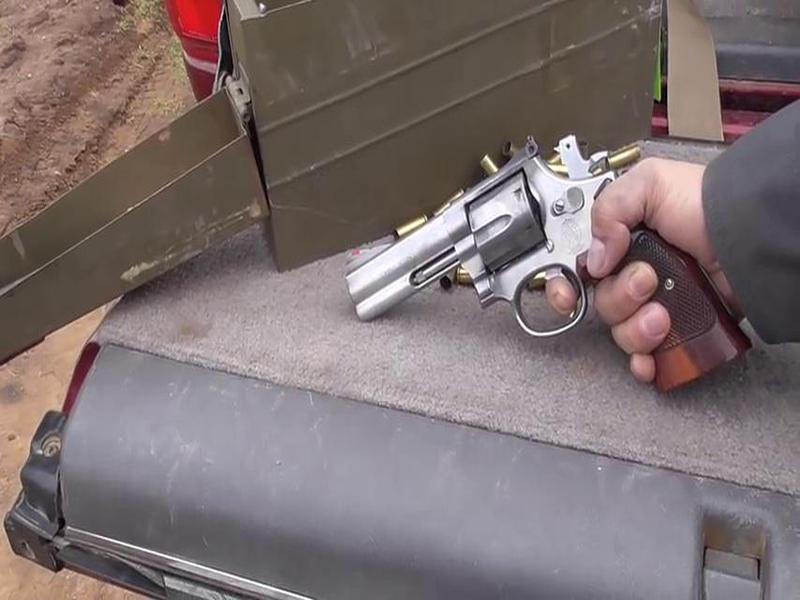Revolver: (343, 133, 649, 384)
